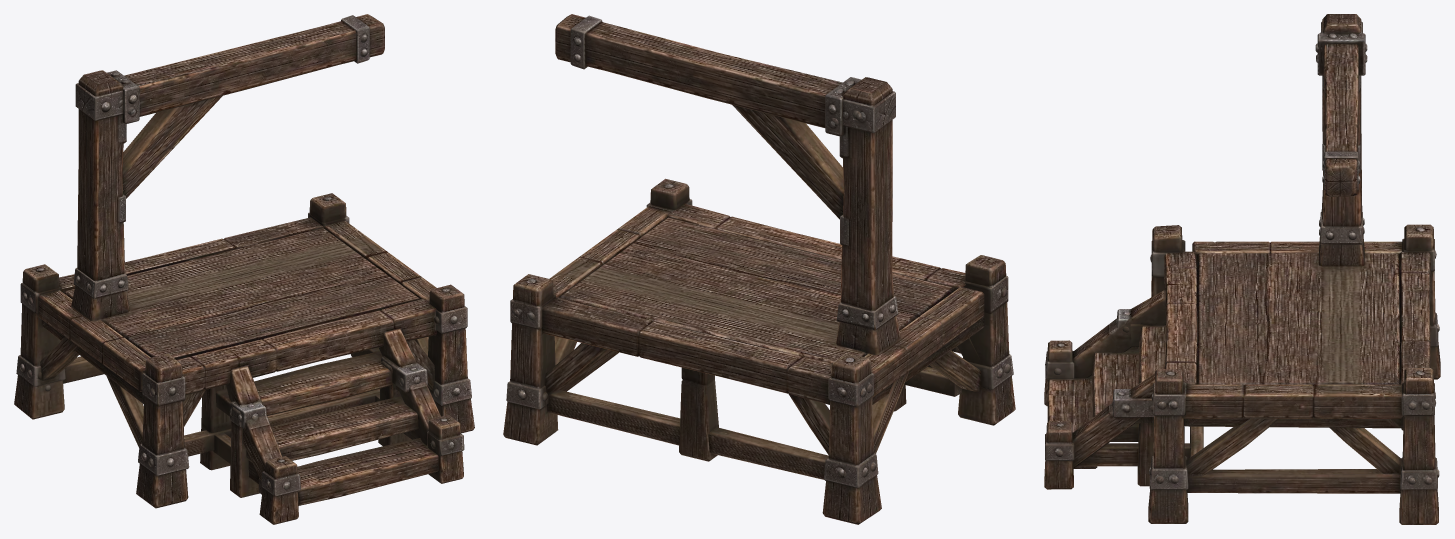
The model's file is prop_gallows.glb.
The picture shows the model from 3 angles, left to right: view 1: azimuth 30°, elevation 25°; view 2: azimuth 150°, elevation 25°; view 3: azimuth 270°, elevation 25°; orthographic projection. The views are drawn at different scales.
Visible parts, largest first — view 1: tripo_node_2bc96b87-6bc7-4b4c-b8e0-3d1c8b96a9aa; view 2: tripo_node_2bc96b87-6bc7-4b4c-b8e0-3d1c8b96a9aa; view 3: tripo_node_2bc96b87-6bc7-4b4c-b8e0-3d1c8b96a9aa.
Boxes of the visible parts, x1,y1,x2,y2 form: tripo_node_2bc96b87-6bc7-4b4c-b8e0-3d1c8b96a9aa: (14, 14, 474, 524); tripo_node_2bc96b87-6bc7-4b4c-b8e0-3d1c8b96a9aa: (503, 14, 1015, 524); tripo_node_2bc96b87-6bc7-4b4c-b8e0-3d1c8b96a9aa: (1044, 14, 1440, 524).
Size of the model in its own units: 0.9243 by 0.9614 by 0.9468.
Materials: 1 (1 with a texture image).
